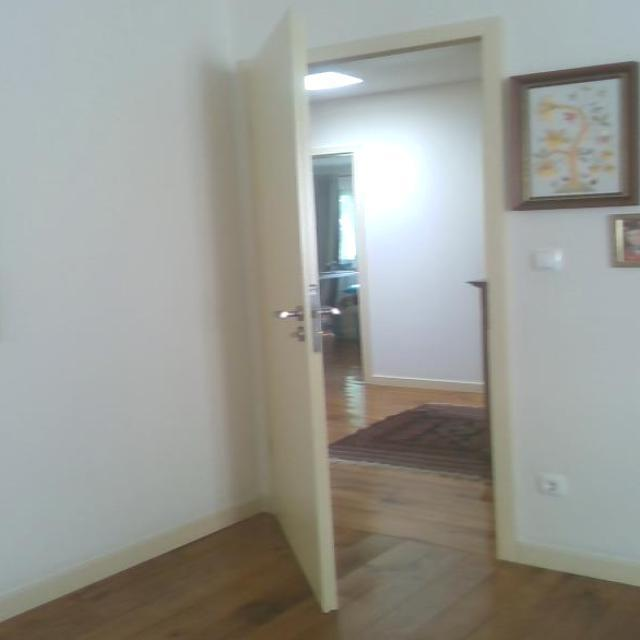door: (222, 9, 362, 618)
